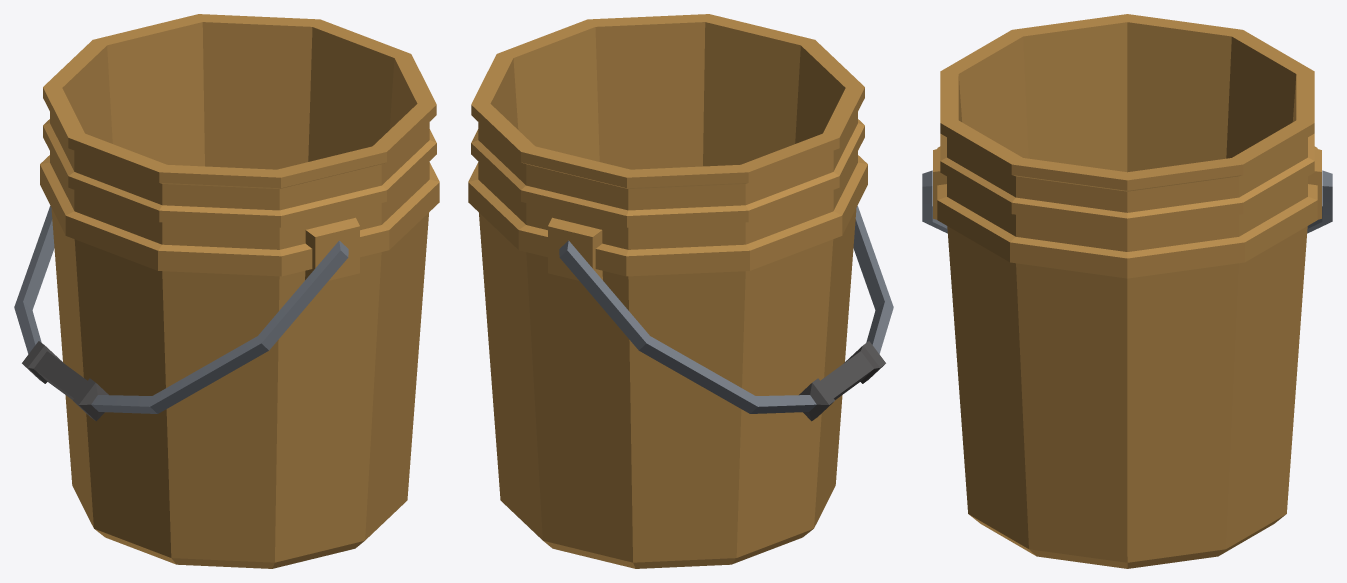
Rendered from SM_Prop_Tool_Bucket_02.obj.
3 views of the same model, side by side, from view 1: azimuth 30°, elevation 25°; view 2: azimuth 150°, elevation 25°; view 3: azimuth 270°, elevation 25° (orthographic).
Parts seen in each view (by area): view 1: SM_Prop_Tool_Bucket_02_0; view 2: SM_Prop_Tool_Bucket_02_0; view 3: SM_Prop_Tool_Bucket_02_0.
Boxes of the visible parts, x1=… form: SM_Prop_Tool_Bucket_02_0: x1=14, y1=14, x2=439, y2=568; SM_Prop_Tool_Bucket_02_0: x1=468, y1=14, x2=893, y2=568; SM_Prop_Tool_Bucket_02_0: x1=922, y1=14, x2=1332, y2=568.
Size of the model in its own units: 0.4776 by 0.5129 by 0.4694.
Materials: 1 (1 with a texture image).
